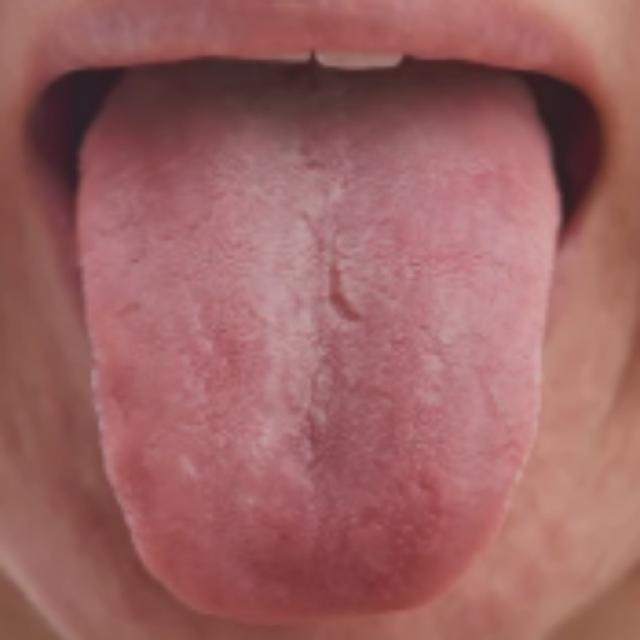processing_area: (81, 56, 562, 622)
